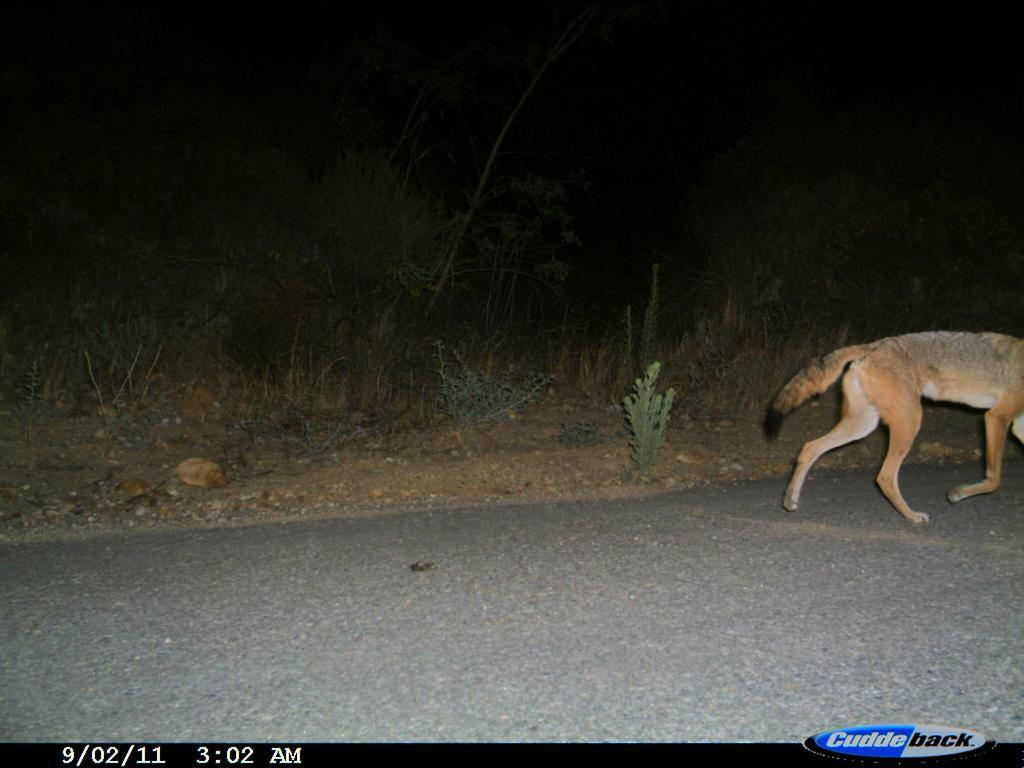coyote: (748, 289, 1023, 528)
